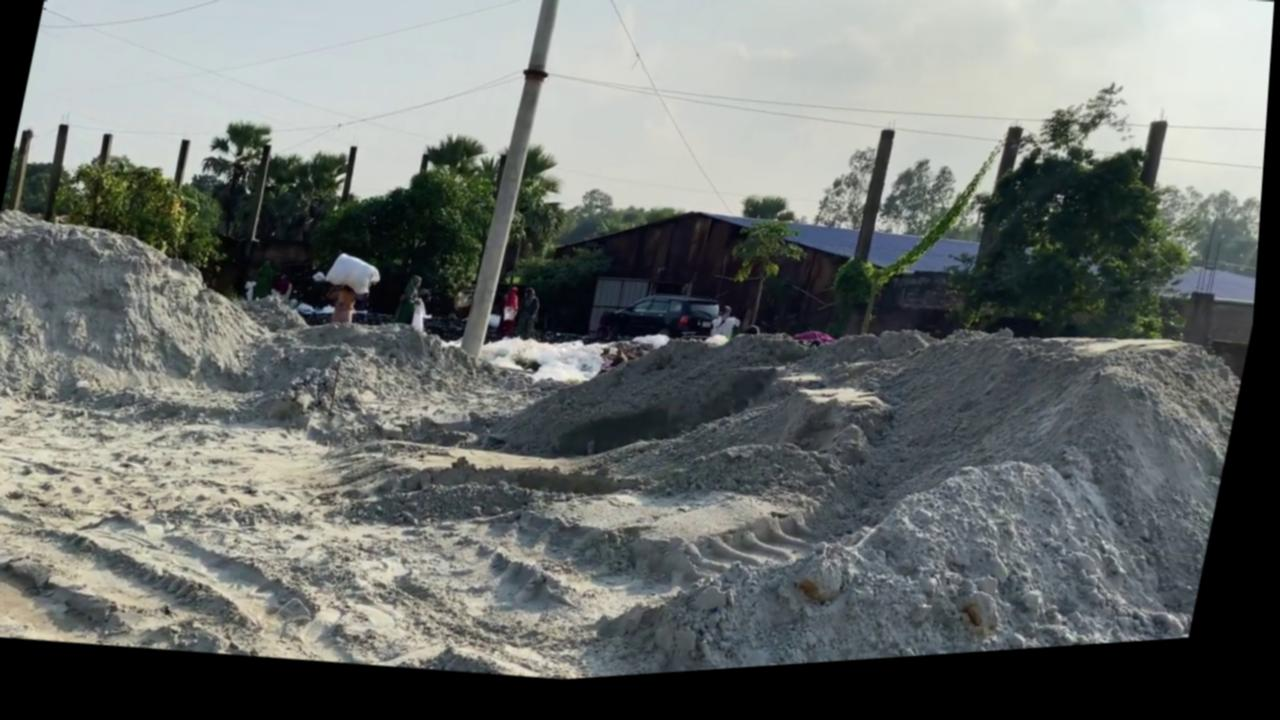Car: (598, 291, 730, 365)
Garbage: (521, 299, 1245, 691), (0, 196, 285, 463), (268, 307, 503, 460)
Pole: (462, 0, 571, 366), (841, 138, 899, 349), (977, 136, 1026, 285), (42, 123, 73, 222), (246, 146, 275, 245), (86, 133, 115, 225), (1139, 132, 1172, 207), (9, 128, 36, 211), (340, 149, 361, 208), (173, 140, 192, 193)
Traffic-sign: (936, 72, 1235, 377), (719, 220, 818, 350)
Tree: (868, 273, 976, 360)
